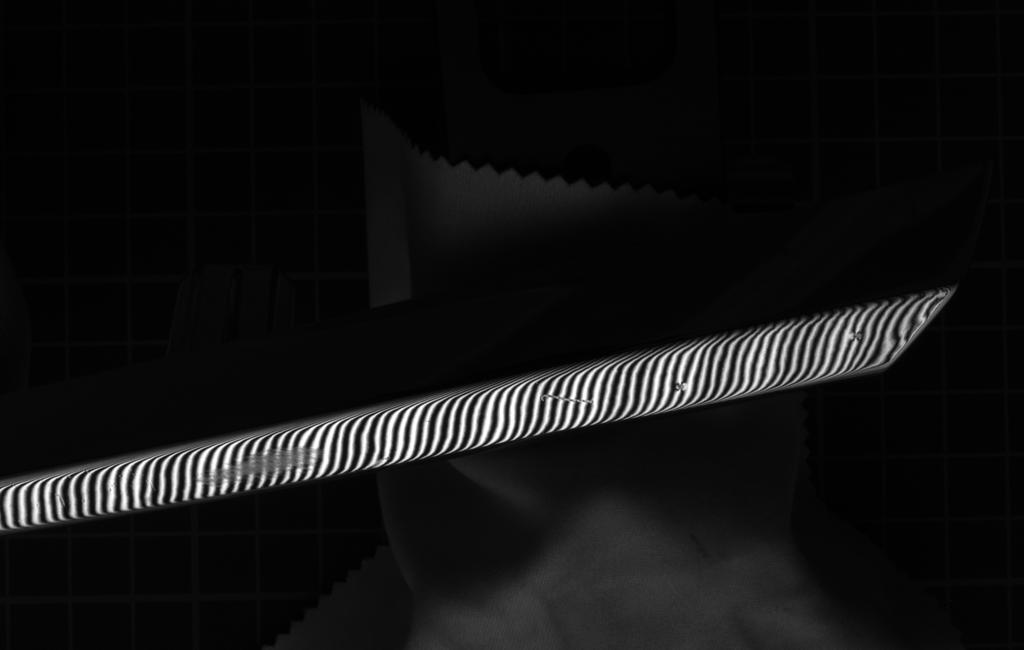Pierced: (846, 328, 871, 346), (670, 378, 693, 396)
Pitting: (192, 438, 326, 490)
Scratch: (542, 392, 605, 408)
